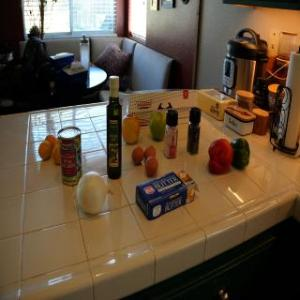bell_pepper: (208, 136, 232, 176), (231, 131, 250, 169)
egg: (144, 157, 158, 177), (132, 148, 142, 166)
onion: (75, 172, 113, 215)
